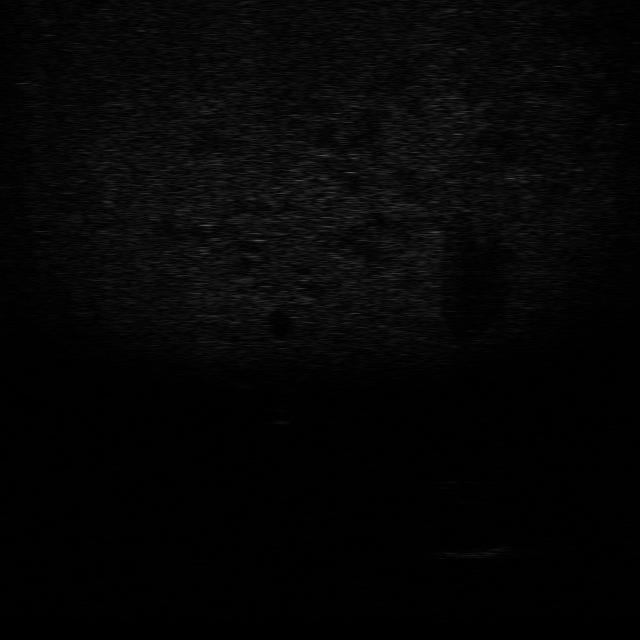ball: (265, 406, 296, 427)
metal bucket: (440, 539, 520, 565)
tyre: (432, 476, 487, 514)
